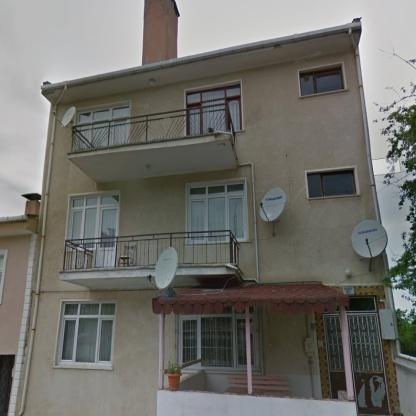door: (349, 314, 389, 414), (326, 316, 346, 399), (98, 209, 118, 266)
window: (181, 316, 245, 365), (60, 304, 114, 362), (190, 184, 243, 242), (188, 85, 240, 134), (70, 196, 118, 244), (75, 106, 128, 149), (308, 169, 357, 198), (300, 66, 344, 96)
